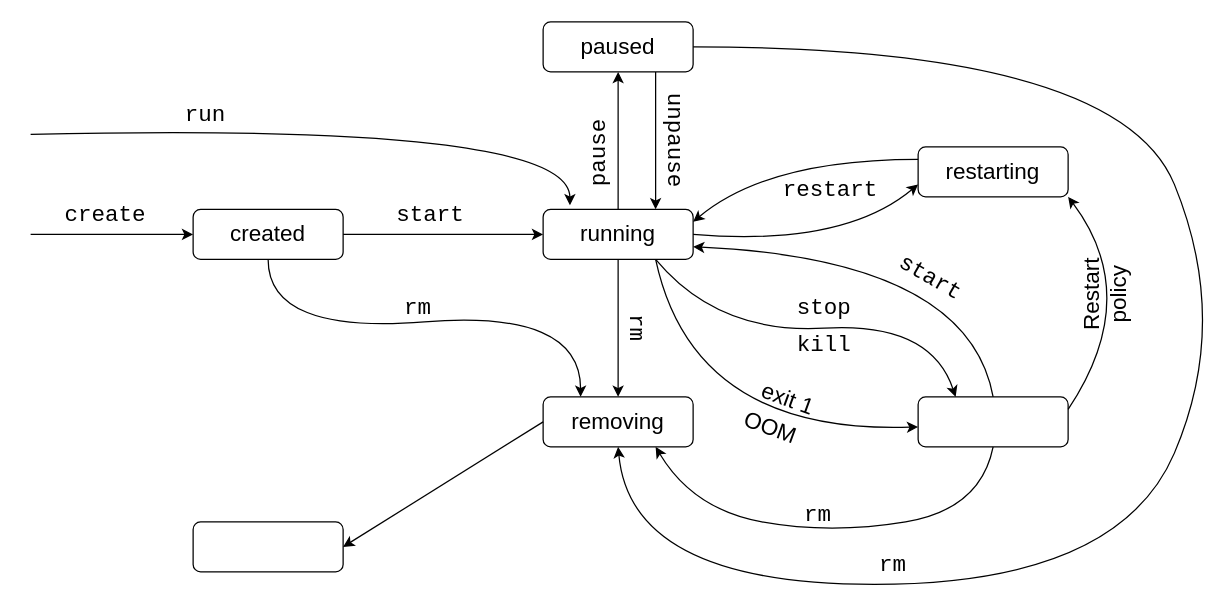
Image size: 1225x606. Some labels were removed from this diagram. Here are the shapes that lost their labels. From the top down, the centre of each, then its label:
At [992,421]: "exited".
At [267,546]: "dead".
